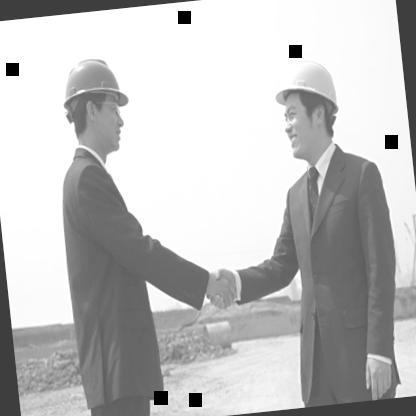helmet: (45, 36, 140, 164), (264, 37, 350, 164)
